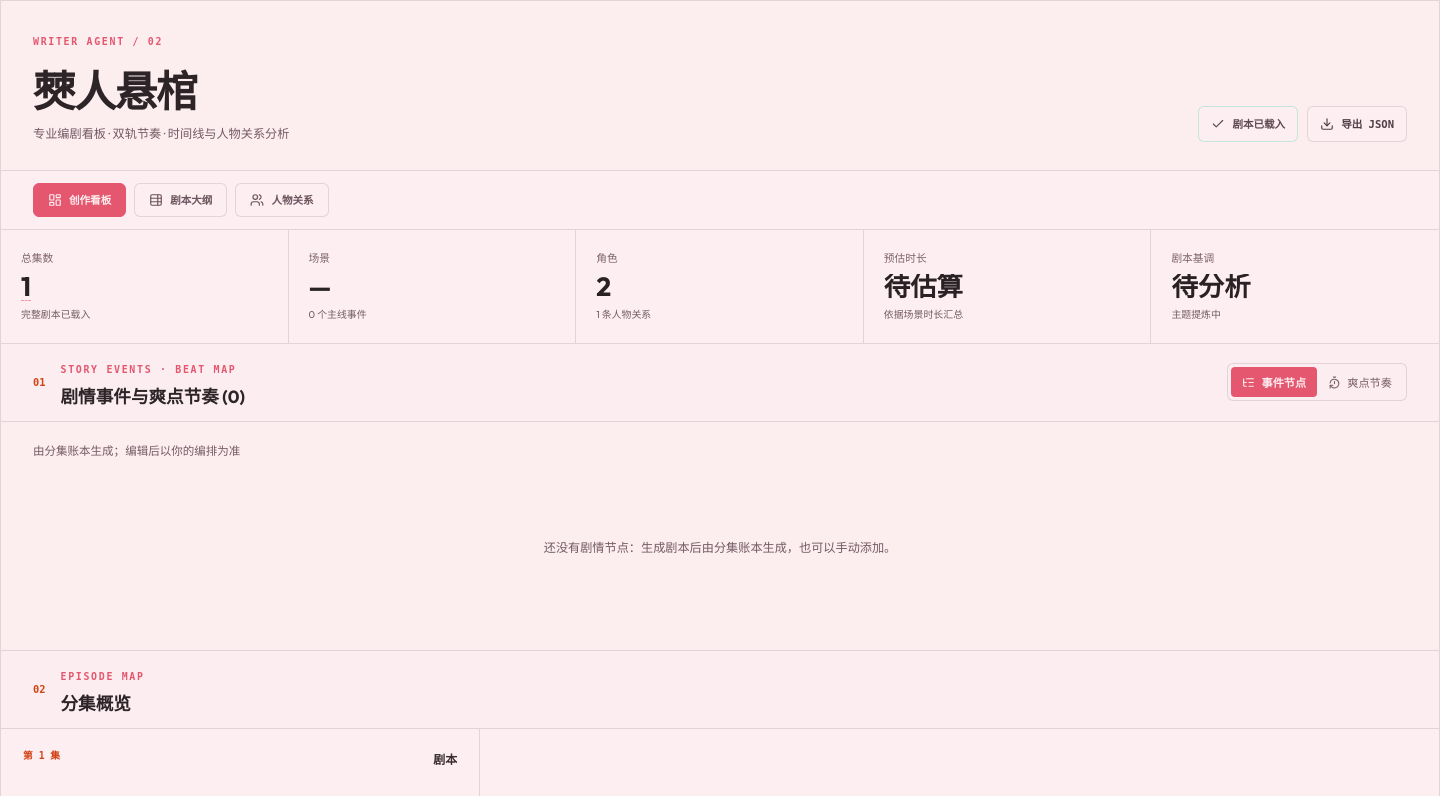
Test case: WriterAgentPage board › opens the character network as its own page under the 人物关系 tab
This screenshot has width=1440, height=796.
Click the button "人物关系": (282, 200) [235,183,329,217]
(page scrolled)
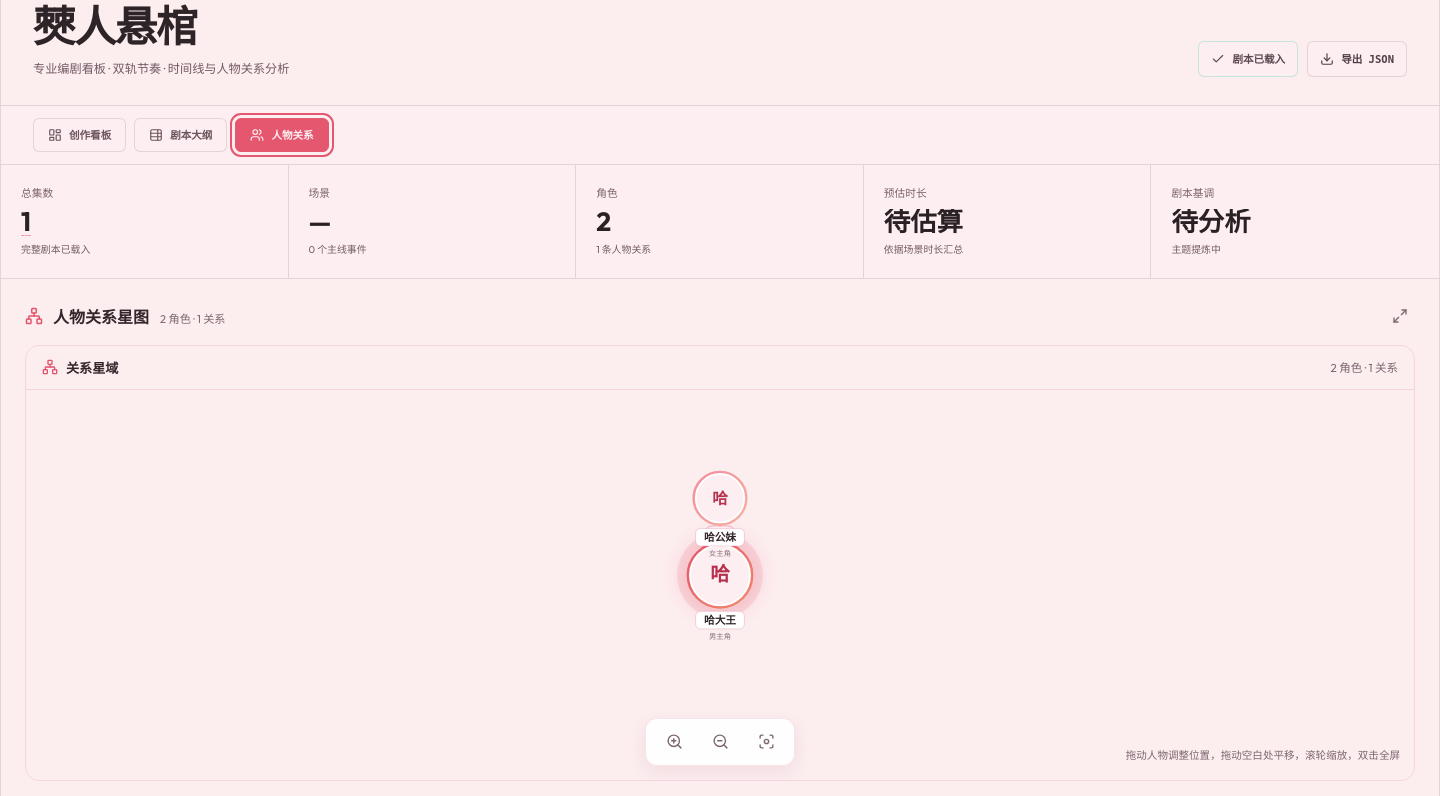
Expected: the heading "人物关系星图 2 角色 · 1 关系" is shown, [53,307,226,327]
Expected: the element named "星图缩放" is shown, [645,718,795,766]
Expected: the heading "剧情事件与爽点节奏" is gone
